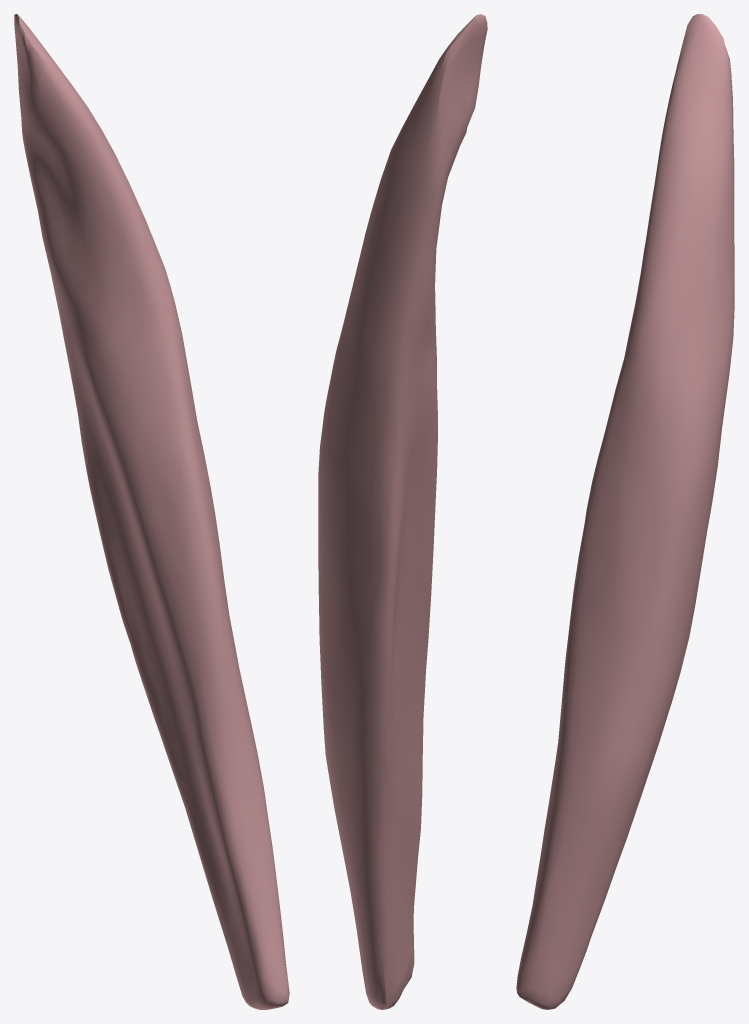
File: fma297624_mm1865m.glb
3 views of the same model, side by side, from view 1: azimuth 30°, elevation 25°; view 2: azimuth 150°, elevation 25°; view 3: azimuth 270°, elevation 25° (orthographic). The views are drawn at different scales.
Parts seen in each view (by area): view 1: FMA297624_MM1865M; view 2: FMA297624_MM1865M; view 3: FMA297624_MM1865M.
Boxes of the visible parts, bbox=[...] form: FMA297624_MM1865M: bbox=[14, 14, 289, 1009]; FMA297624_MM1865M: bbox=[318, 14, 487, 1009]; FMA297624_MM1865M: bbox=[516, 14, 734, 1009].
Size of the model in its own units: 0.0322 by 0.1635 by 0.0352.
